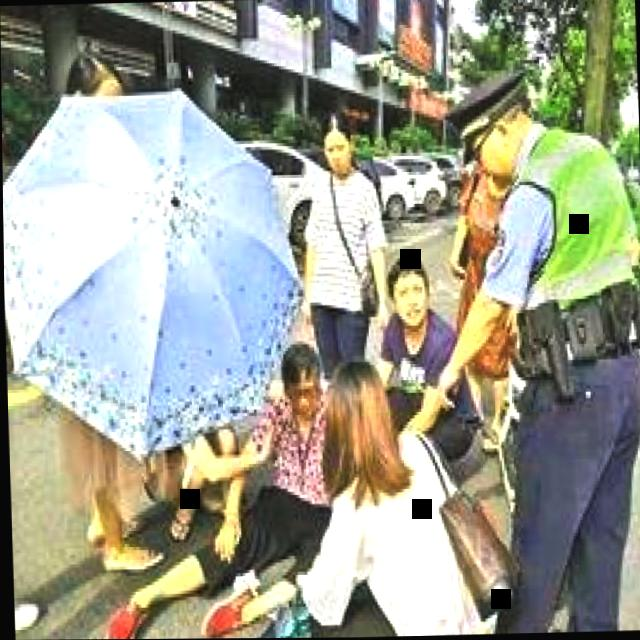Fall-Detected: (106, 317, 361, 639)
